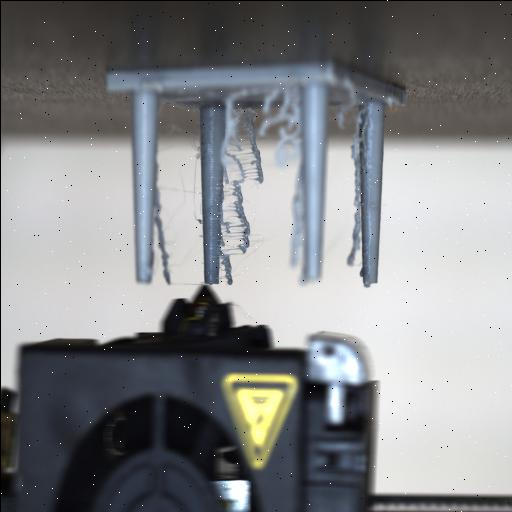stringing: (216, 86, 342, 276), (151, 146, 189, 284)
